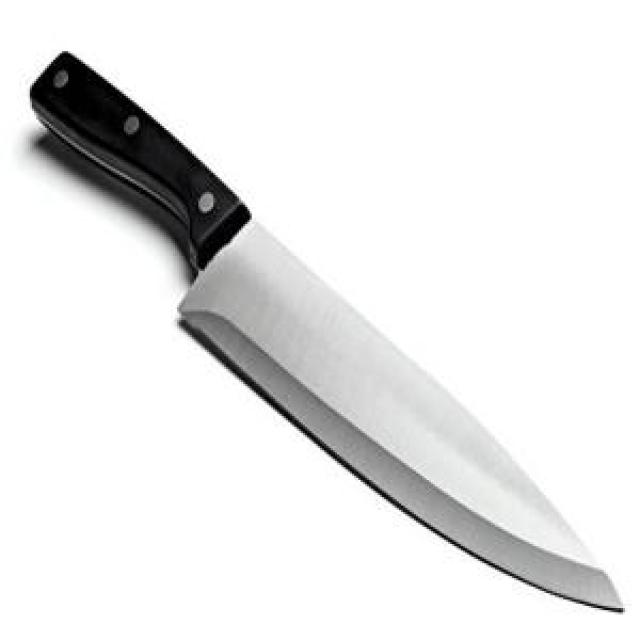knife: (28, 38, 626, 618)
